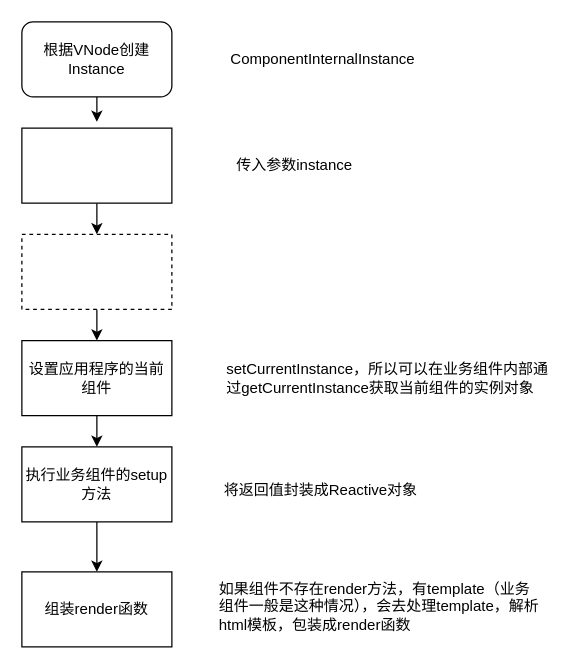
Image size: 571x669. Some labels were removed from this diagram. The centre of each missing label's shape, as x and y in pixels:
"处理props/slots" goes at (96,271).
"调用setupComponent" goes at (96,165).
